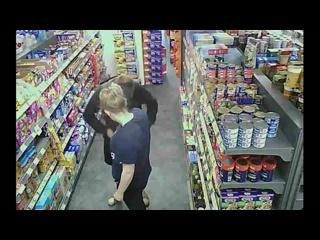shoplifting: (82, 74, 158, 166), (98, 84, 153, 210)
